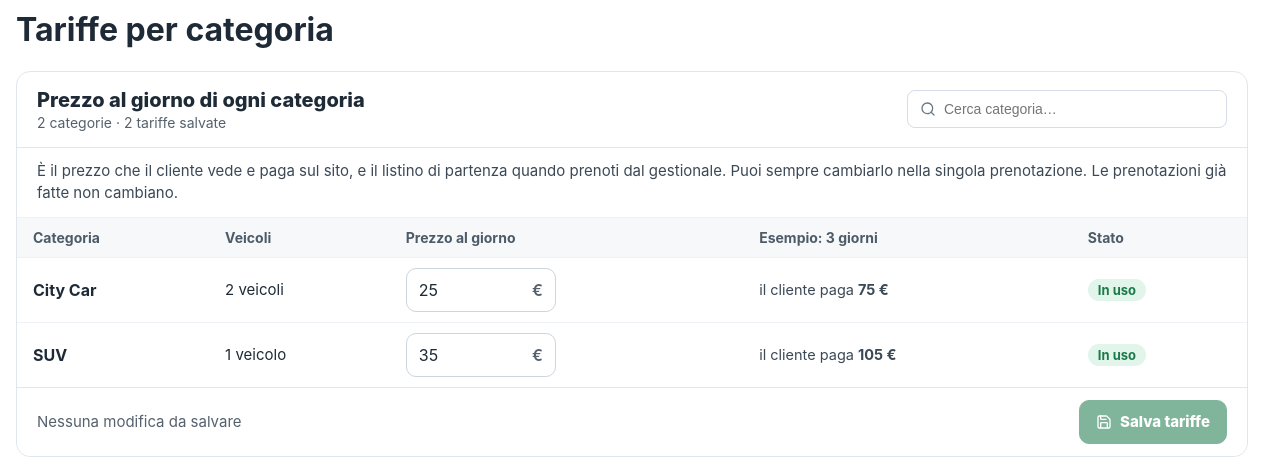
la barra in fondo dice quante modifiche non sono salvate
Expected: the text "Nessuna modifica da salvare" is shown, [37, 412, 242, 431]
Replace the text in the field named "Prezzo al giorno City Car" with "27": x=481, y=290 [406, 268, 556, 312]
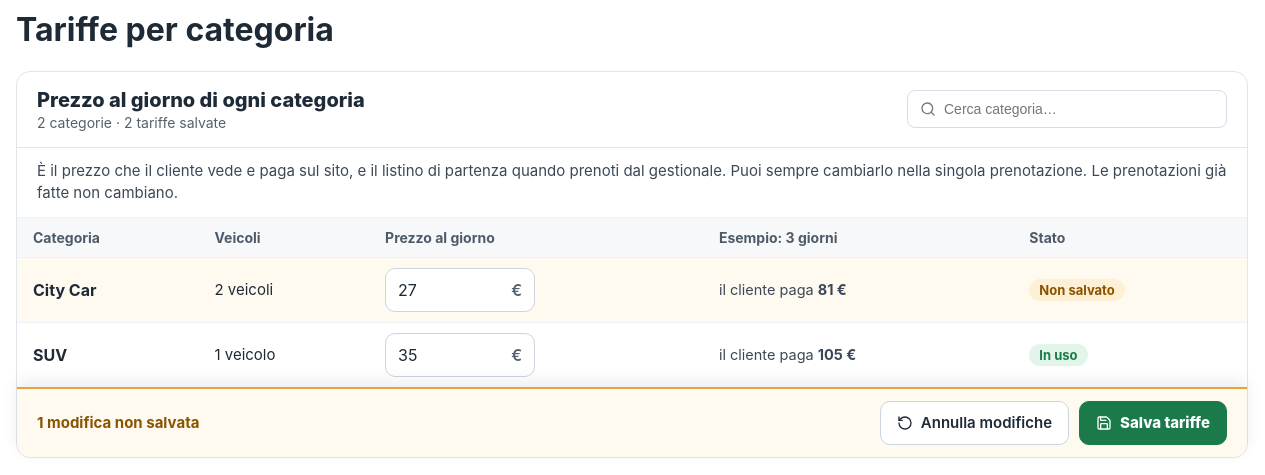
Replace the text in the field named "Prezzo al giorno SUV" with "40": x=460, y=355 [385, 333, 535, 377]
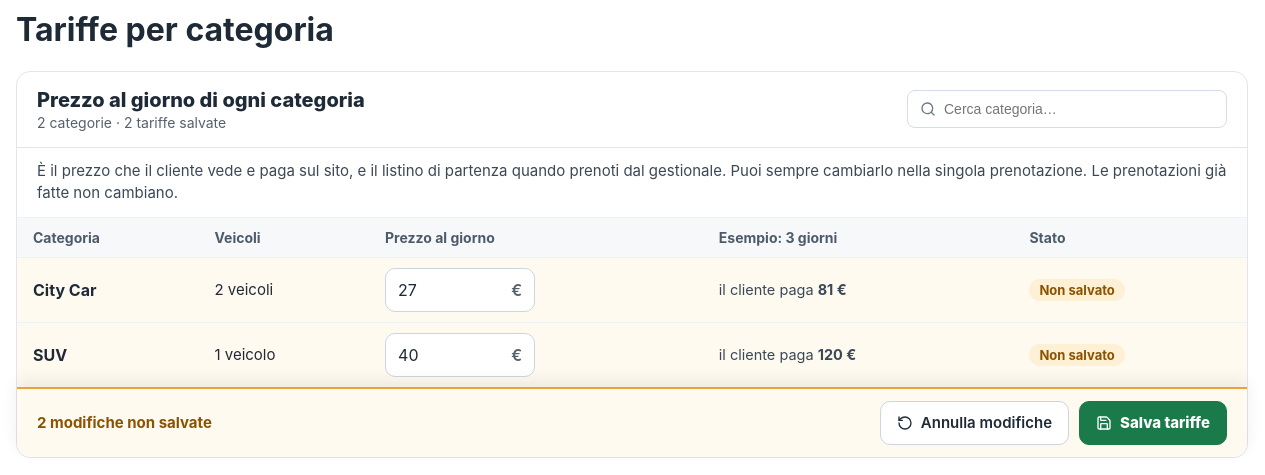
Expected: the text "Non salvato" is shown 2 times, [1029, 279, 1125, 301]; [1029, 344, 1125, 366]
Expected: the text "2 modifiche non salvate" is shown, [37, 413, 212, 432]
